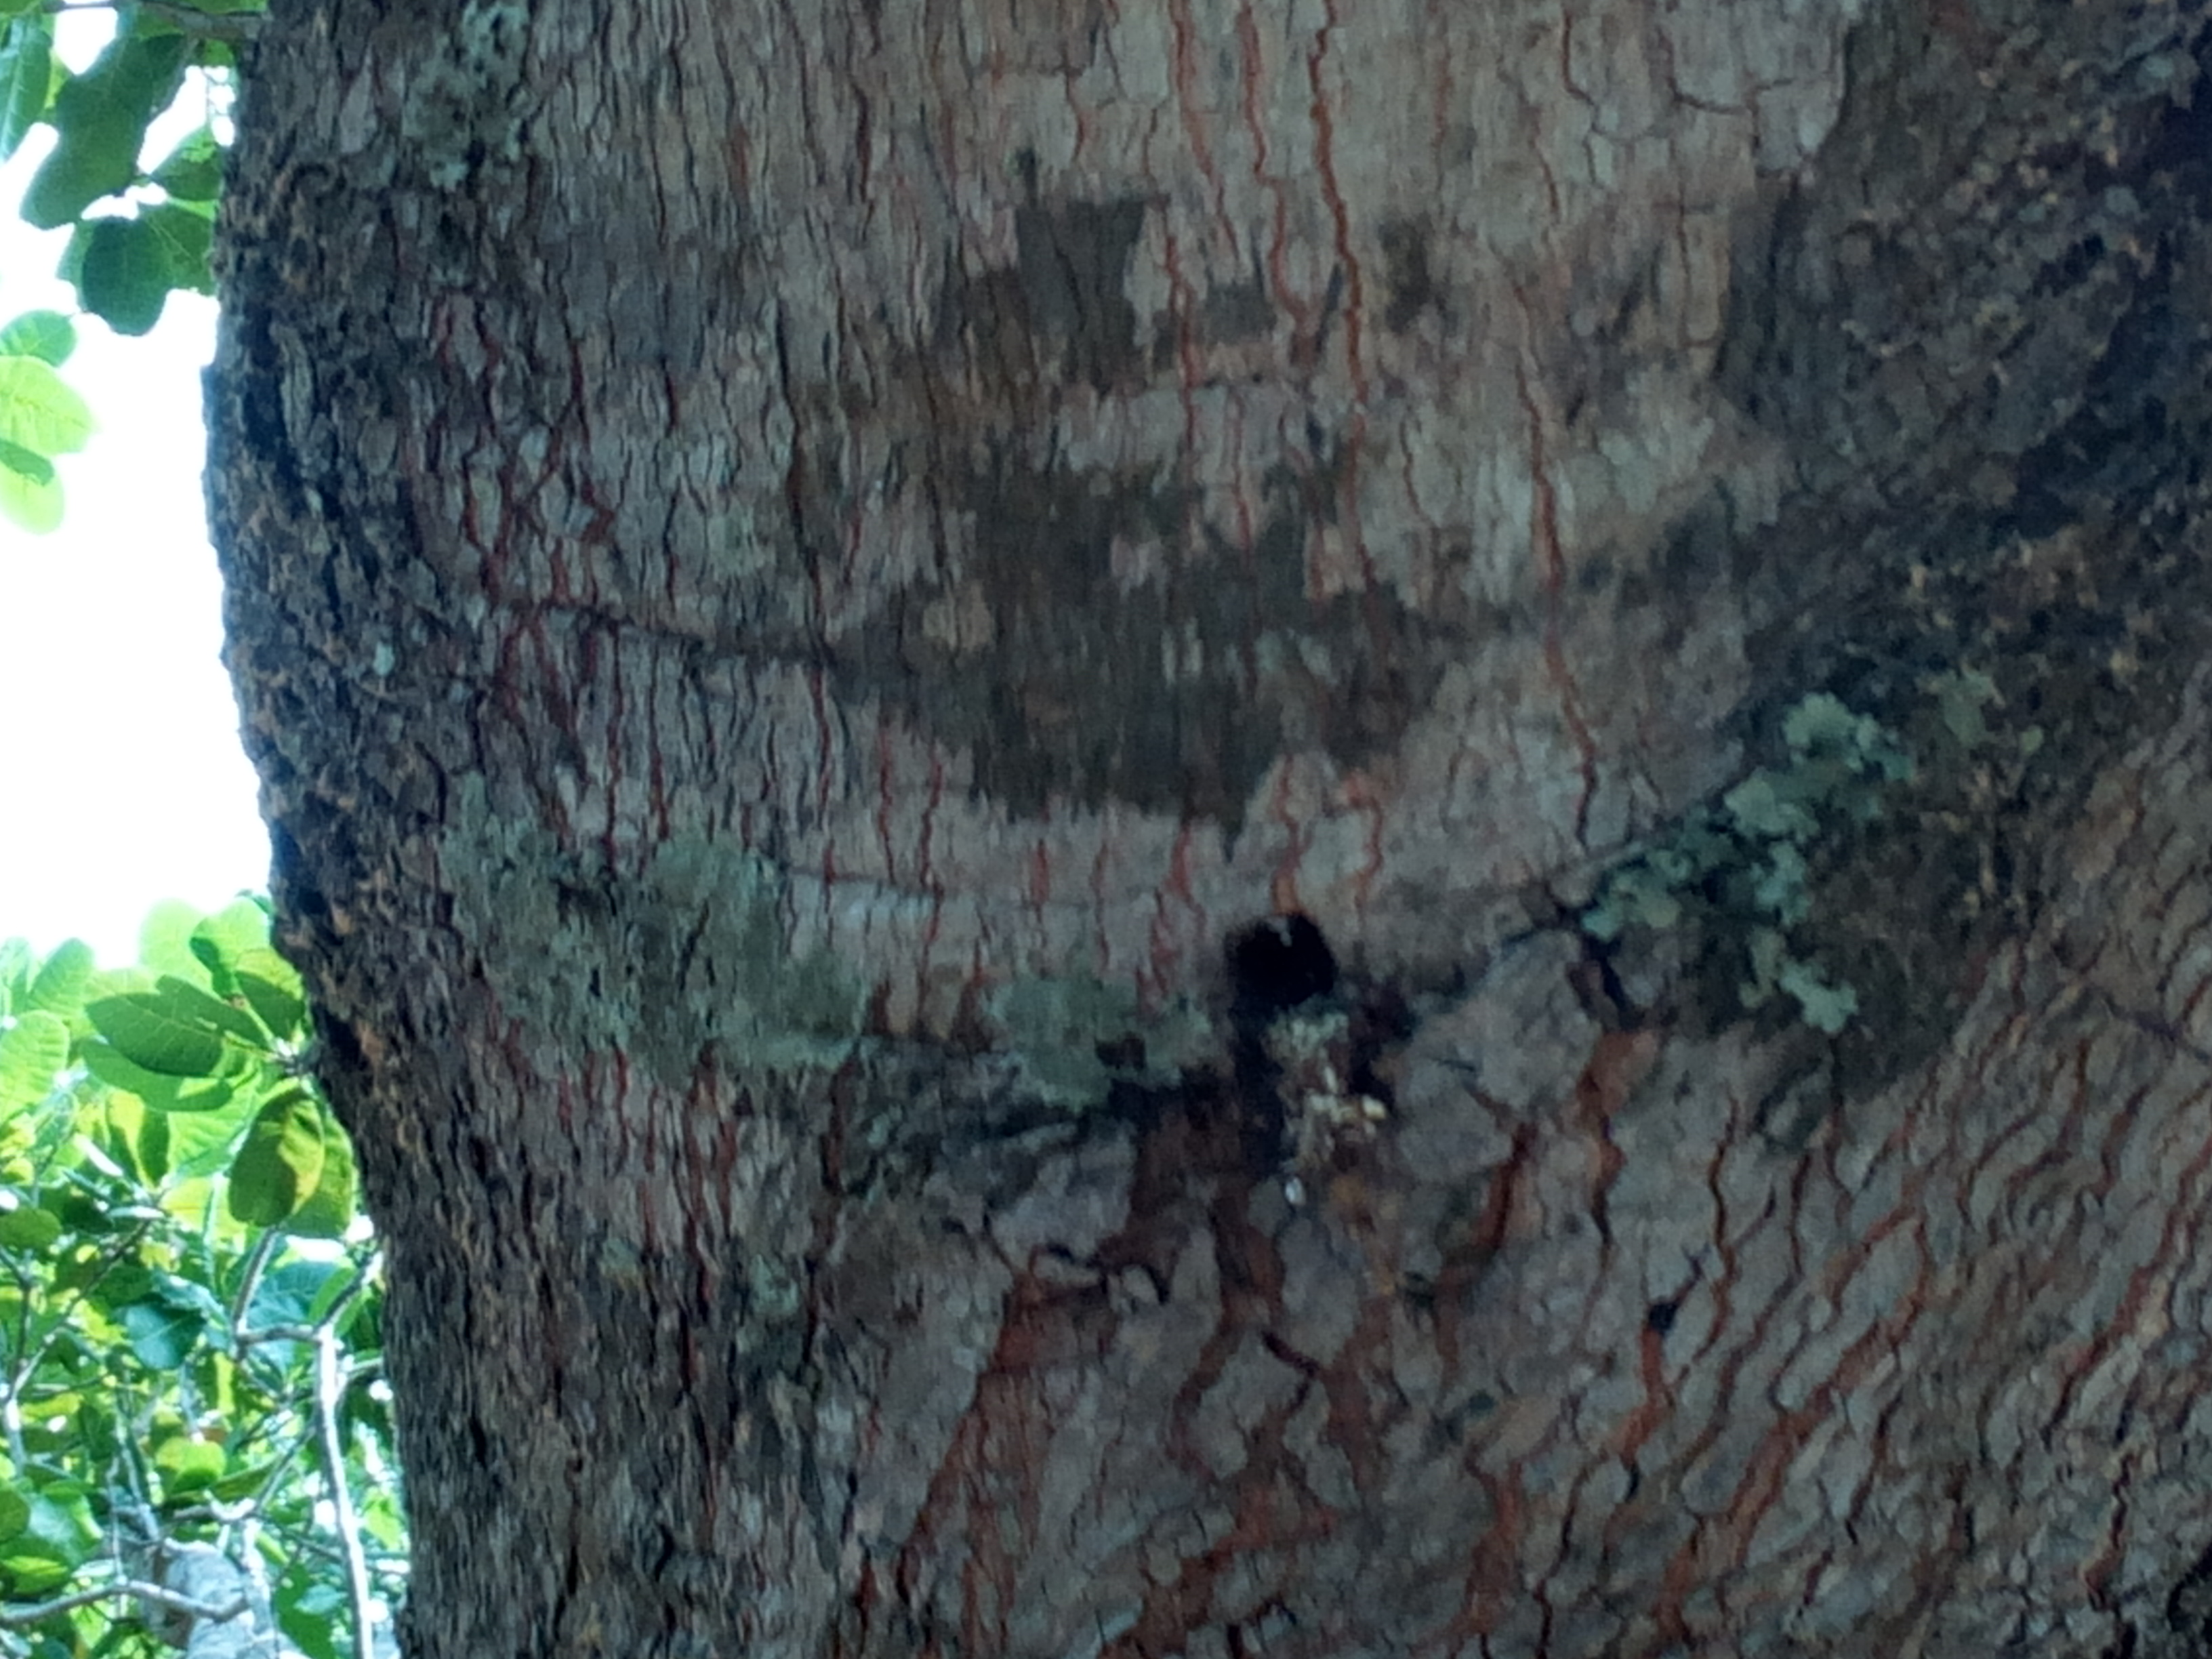Apate terebrans: (1146, 882, 1602, 1126)
